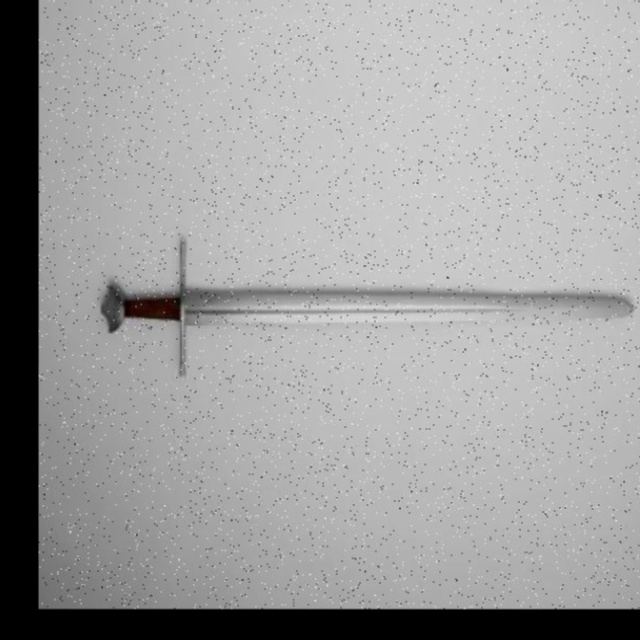Sharp-Object: (81, 266, 640, 334)
